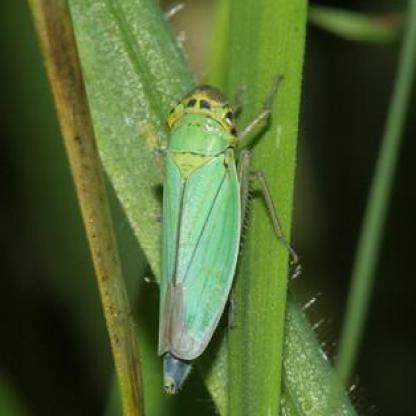Green-Leafhopper: (136, 71, 298, 403)
